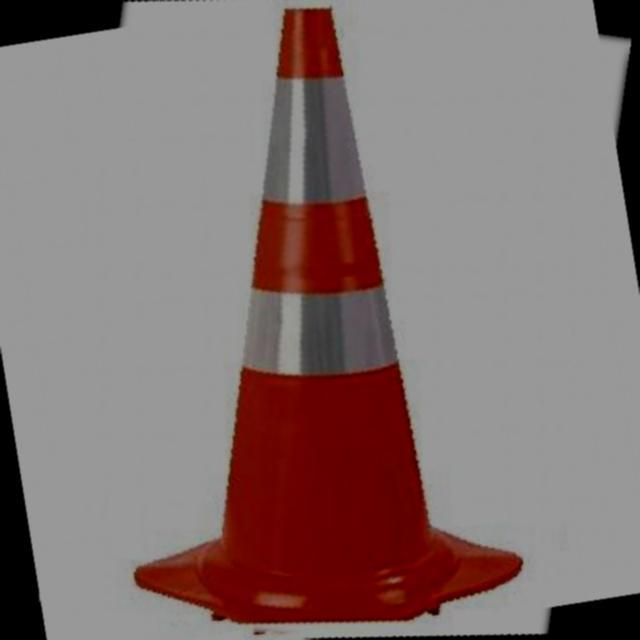traffic cone: (132, 8, 522, 625)
